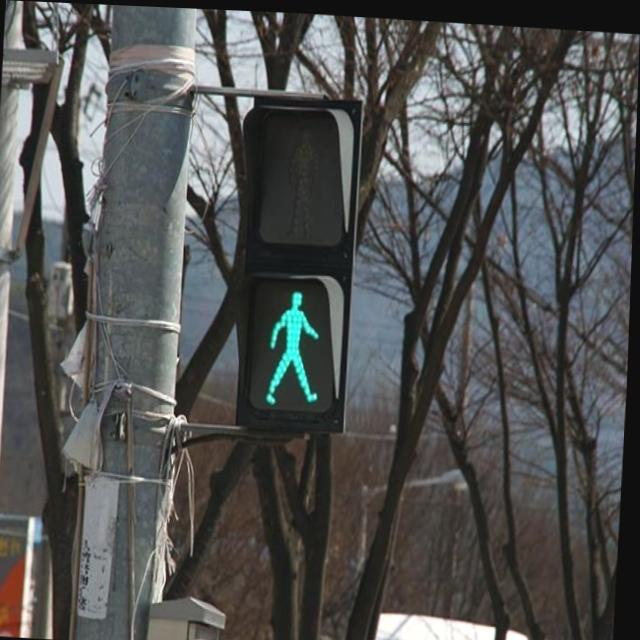green_light: (255, 282, 331, 406)
